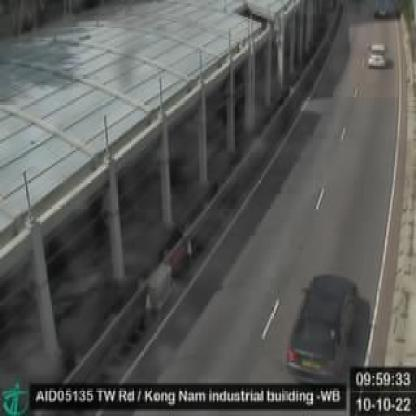Car: (285, 274, 363, 382), (367, 41, 386, 67)
